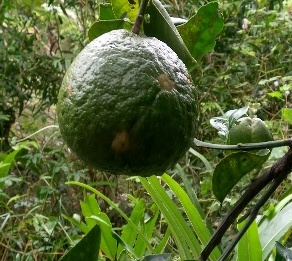Cam: (53, 26, 202, 179)
